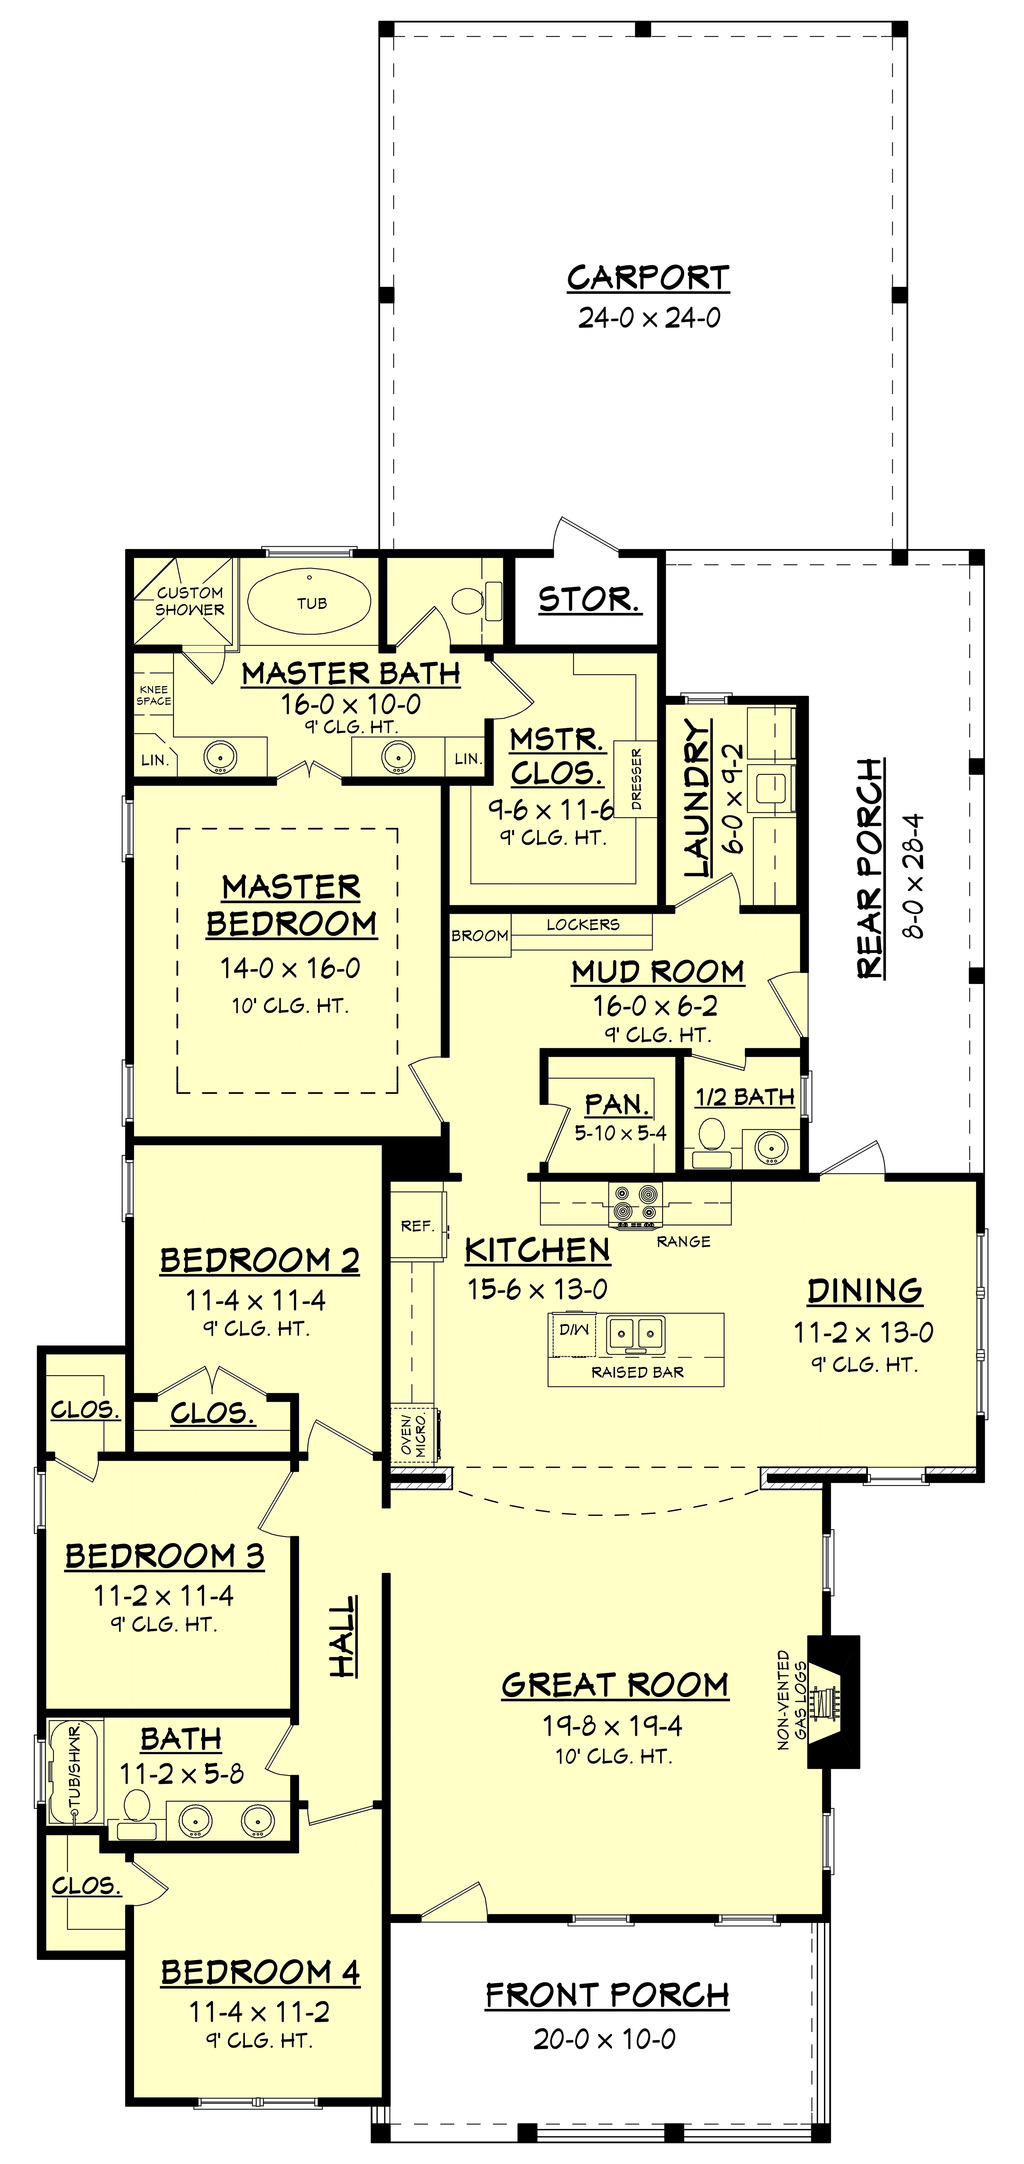door: (264, 1463, 316, 1565), (767, 950, 821, 1043), (399, 1042, 462, 1121), (472, 661, 538, 736), (138, 1361, 266, 1397), (811, 1128, 885, 1184), (414, 1878, 495, 1927), (389, 603, 457, 656), (669, 876, 749, 921), (177, 635, 230, 697), (250, 1722, 311, 1776), (48, 1444, 110, 1495), (524, 1099, 570, 1168), (123, 1858, 174, 1916)
kitchen_bar: (542, 1303, 729, 1404)
large_sink: (108, 1789, 163, 1852), (686, 1108, 737, 1174)
small_sink: (161, 1802, 308, 1863), (167, 729, 272, 794), (342, 733, 440, 789), (747, 1129, 806, 1174)
tub: (244, 563, 386, 649), (35, 1715, 112, 1823)
window: (959, 1223, 999, 1423), (115, 1053, 148, 1223), (179, 2085, 328, 2121), (555, 1898, 644, 1938), (707, 1900, 784, 1945), (110, 784, 139, 867)
